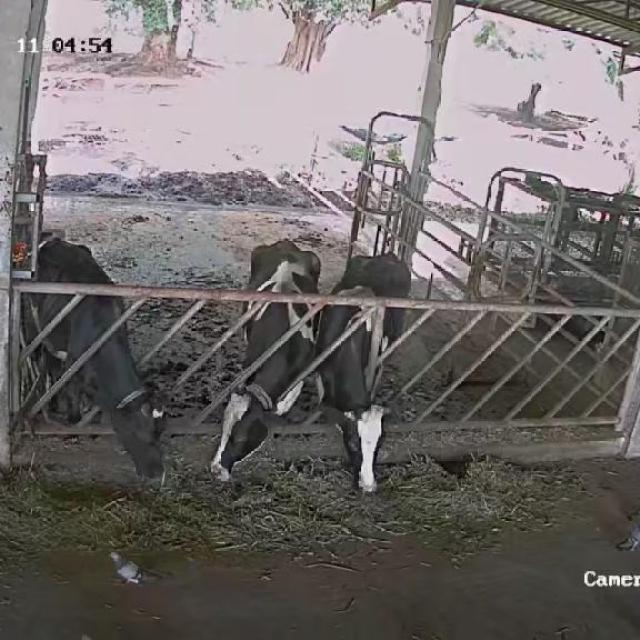feeding: (15, 229, 176, 494), (200, 233, 326, 489), (318, 248, 411, 501)
